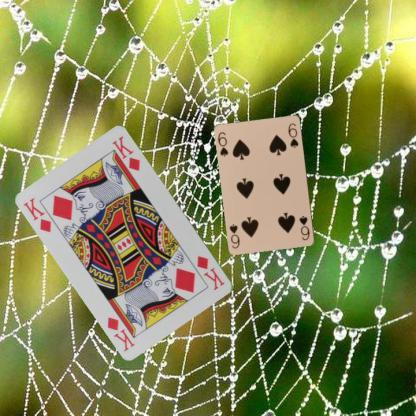6s: (297, 213, 311, 242), (216, 129, 230, 158)
Kd: (194, 253, 226, 292), (21, 195, 53, 234)
